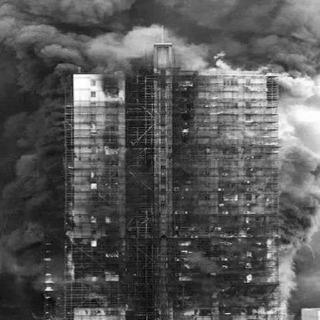Fire: (173, 188, 285, 316), (166, 48, 280, 90), (40, 240, 62, 308)
Smoke: (9, 1, 308, 78), (263, 37, 313, 267)
